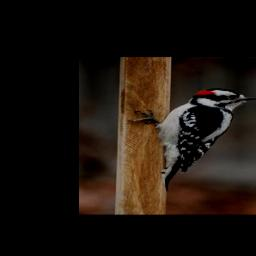Woodpecker: (127, 88, 256, 190)
